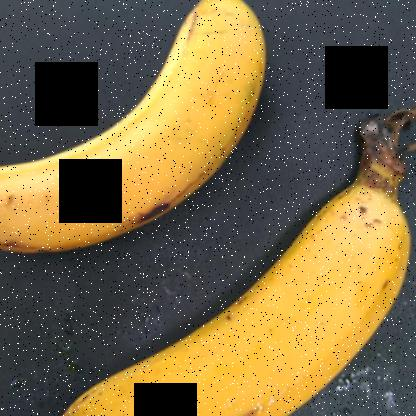freshripe: (0, 0, 290, 284), (43, 190, 406, 416)
